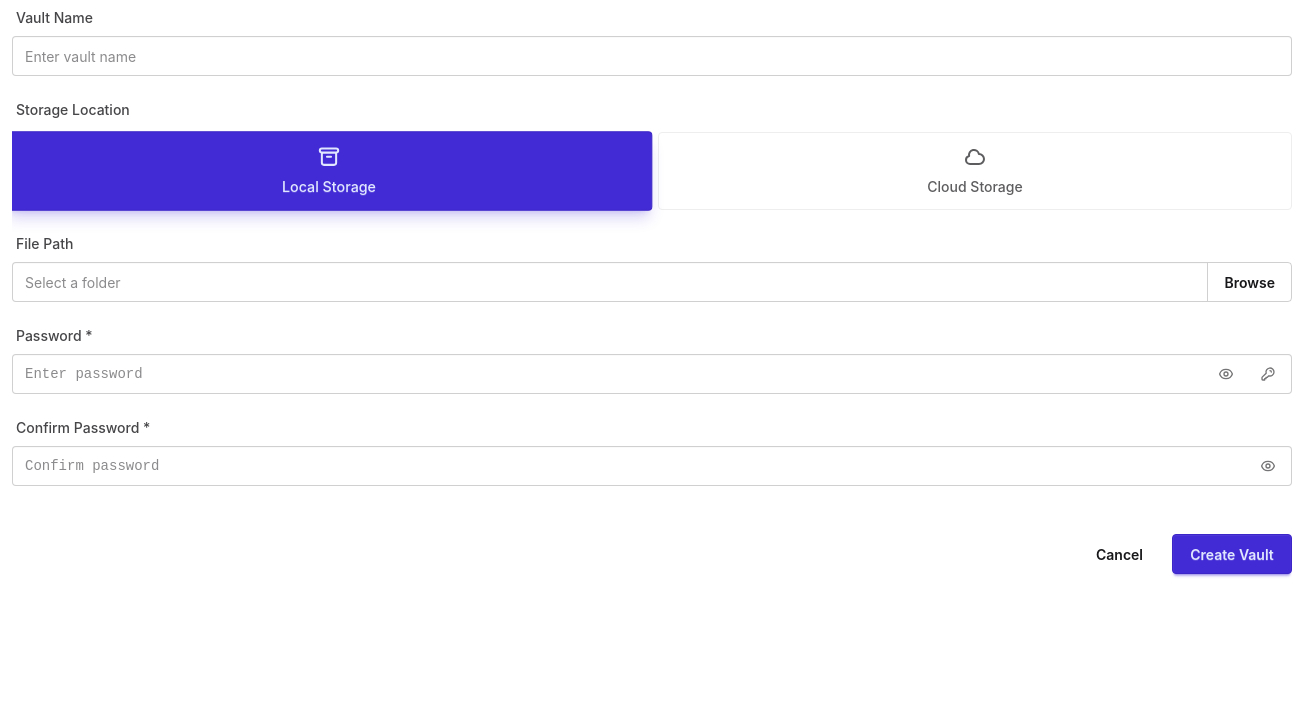
it: AddVaultForm with Cloud Storage › Cloud Provider Selection › should show warning when no authenticated providers
This screenshot has width=1304, height=720.
What coordinates should you click on to do the following:
click the button "Cloud Storage"
I would click on:
 (975, 171)
Its box is top-left (658, 132), bottom-right (1292, 210).
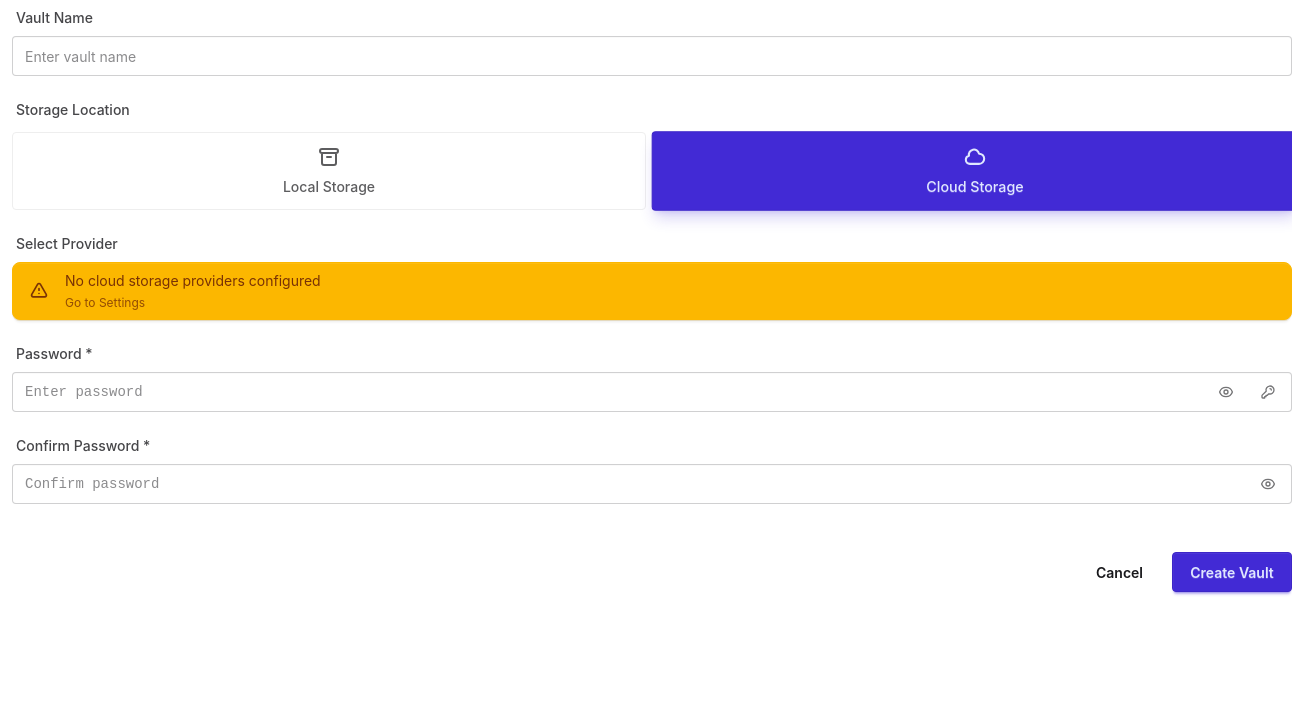
Now the text "No cloud storage providers configured" is shown, box top-left (65, 271), bottom-right (321, 291)
Now the text "Go to Settings" is shown, box top-left (65, 295), bottom-right (145, 310)
